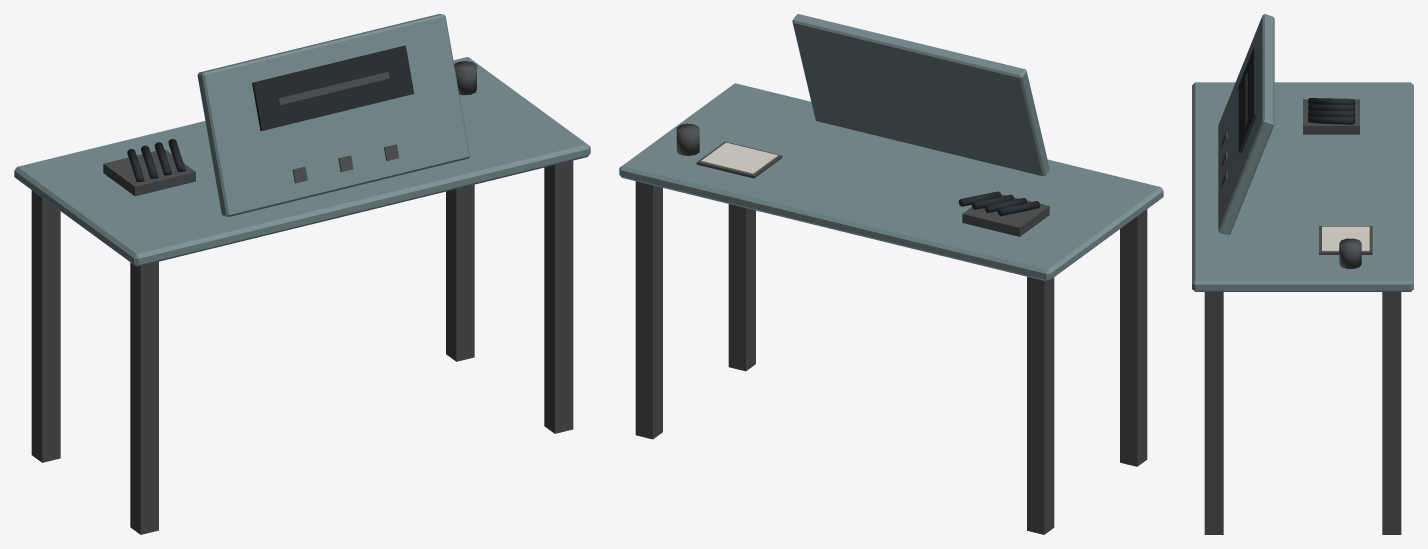
File: lab_console.glb
The picture shows the model from 3 angles, left to right: view 1: azimuth 30°, elevation 25°; view 2: azimuth 150°, elevation 25°; view 3: azimuth 270°, elevation 25°; orthographic projection. The views are drawn at different scales.
Parts seen in each view (by area): view 1: lab_console; view 2: lab_console; view 3: lab_console.
Part boxes in pixels (bbox=[...]): lab_console: bbox=[14, 14, 590, 534]; lab_console: bbox=[619, 14, 1163, 534]; lab_console: bbox=[1192, 14, 1413, 534].
Bounding box in the file's own units: 1.5 × 1.3 × 0.7.
